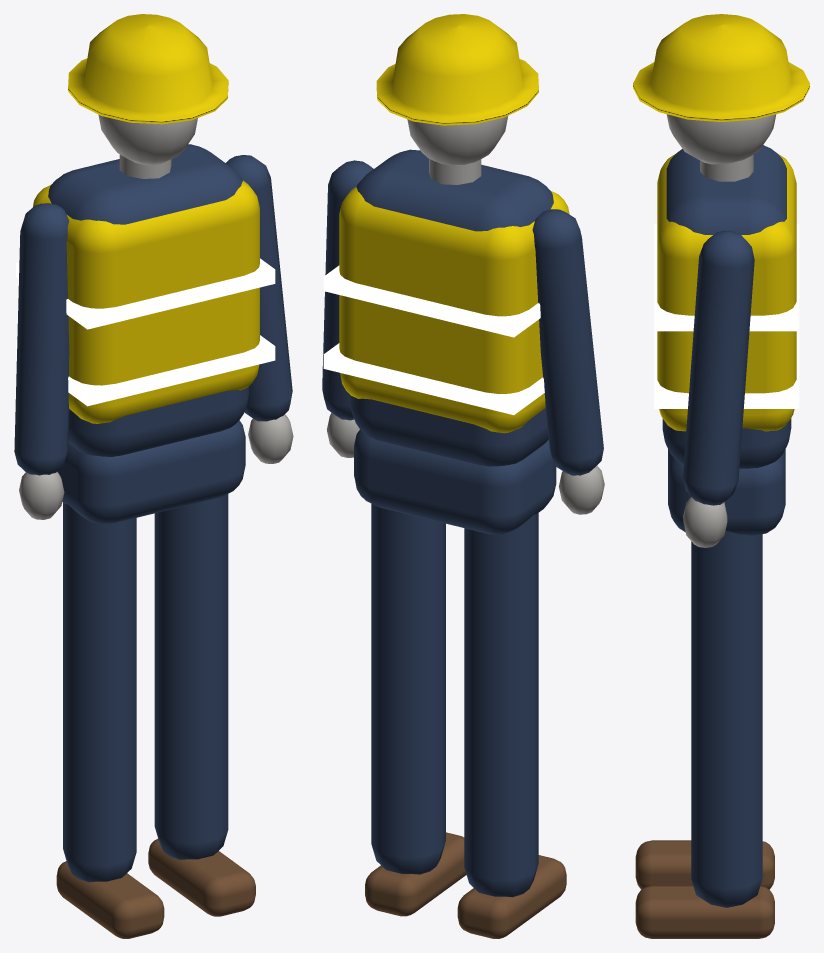
The model's file is trk-006.glb.
3 renders of one model, left to right at view 1: azimuth 30°, elevation 25°; view 2: azimuth 150°, elevation 25°; view 3: azimuth 270°, elevation 25°, orthographic.
Parts seen in each view (by area): view 1: denim, hi_vis, walnut, figure, display_white; view 2: denim, hi_vis, walnut, display_white, figure; view 3: denim, hi_vis, walnut, figure, display_white.
Part boxes in pixels (<box>): denim: <box>14,144,292,882</box>; hi_vis: <box>32,14,259,423</box>; walnut: <box>56,839,255,938</box>; figure: <box>19,114,293,519</box>; display_white: <box>16,258,275,406</box>; denim: <box>322,149,603,897</box>; hi_vis: <box>339,14,569,433</box>; walnut: <box>365,832,566,938</box>; display_white: <box>323,265,586,415</box>; figure: <box>327,116,604,514</box>; denim: <box>662,145,791,907</box>; hi_vis: <box>633,14,809,431</box>; walnut: <box>635,840,774,938</box>; figure: <box>666,114,776,547</box>; display_white: <box>654,224,799,408</box>.
Size of the model in its own units: 0.5888 by 1.82 by 0.33.
